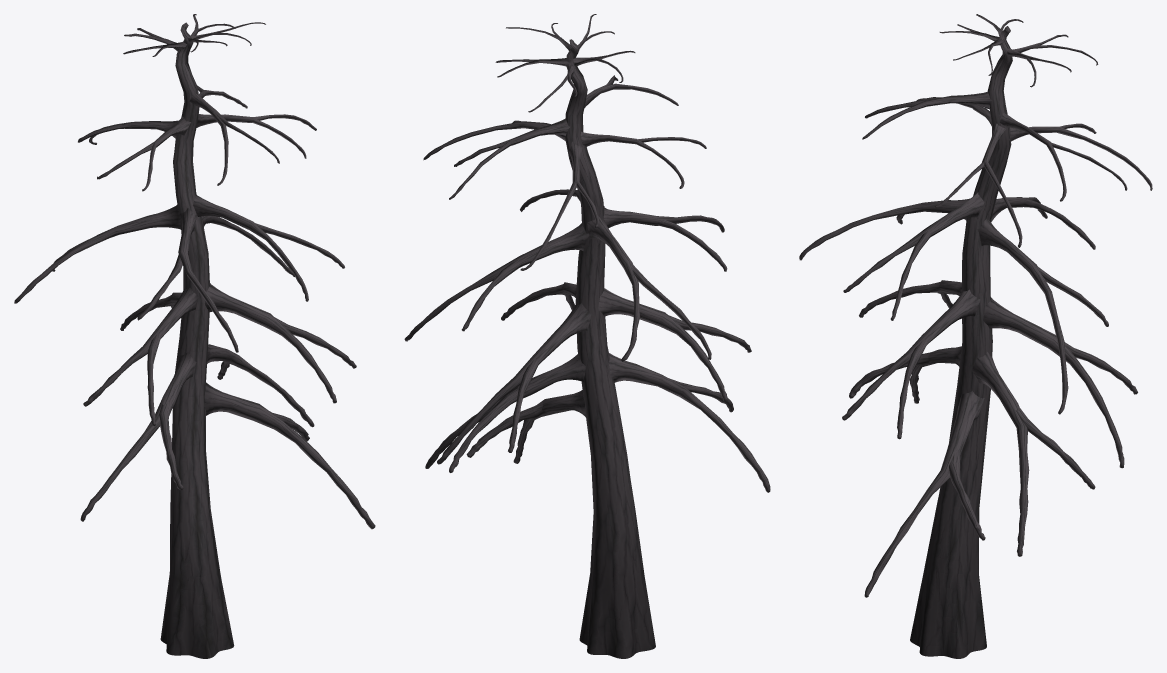
The model's file is prop_snm_dead_tree_5.glb.
The picture shows the model from 3 angles, left to right: view 1: azimuth 30°, elevation 25°; view 2: azimuth 150°, elevation 25°; view 3: azimuth 270°, elevation 25°; orthographic projection. The views are drawn at different scales.
Visible parts, largest first — view 1: DeadTree_5; view 2: DeadTree_5; view 3: DeadTree_5.
Boxes of the visible parts, <box> form: DeadTree_5: <box>14,14,375,658</box>; DeadTree_5: <box>404,14,770,658</box>; DeadTree_5: <box>799,14,1152,658</box>.
Size of the model in its own units: 8.36 by 16.44 by 8.41.
Materials: 1 (1 with a texture image).
